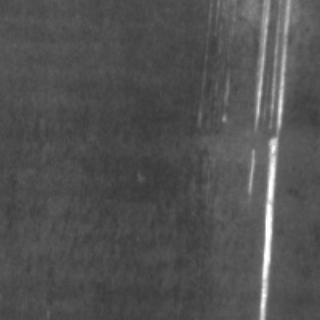scratches: (245, 1, 291, 316)
